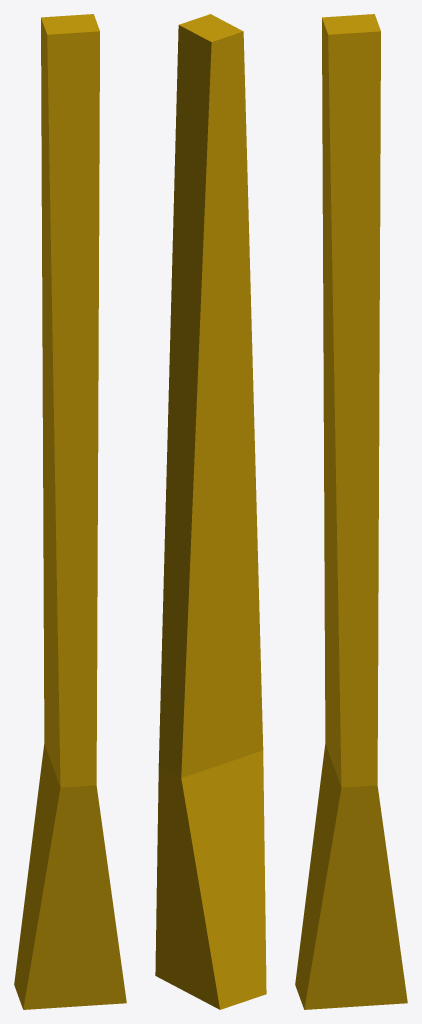
File: g4-yellow.obj
3 renders of one model, left to right at view 1: azimuth 90°, elevation 25°; view 2: azimuth 210°, elevation 25°; view 3: azimuth 270°, elevation 25°, orthographic.
Parts seen in each view (by area): view 1: g4-yellow_Cube.002; view 2: g4-yellow_Cube.002; view 3: g4-yellow_Cube.002.
Boxes of the visible parts, x1,y1,x2,y2 form: g4-yellow_Cube.002: (14, 14, 126, 1009); g4-yellow_Cube.002: (155, 14, 266, 1009); g4-yellow_Cube.002: (295, 14, 407, 1009).
Bounding box in the file's own units: 0.1962 × 1.89 × 0.1996.
